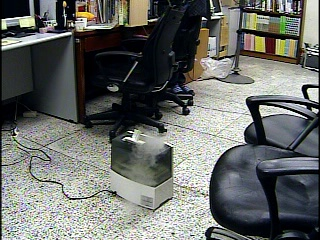smoke: (120, 124, 168, 204)
